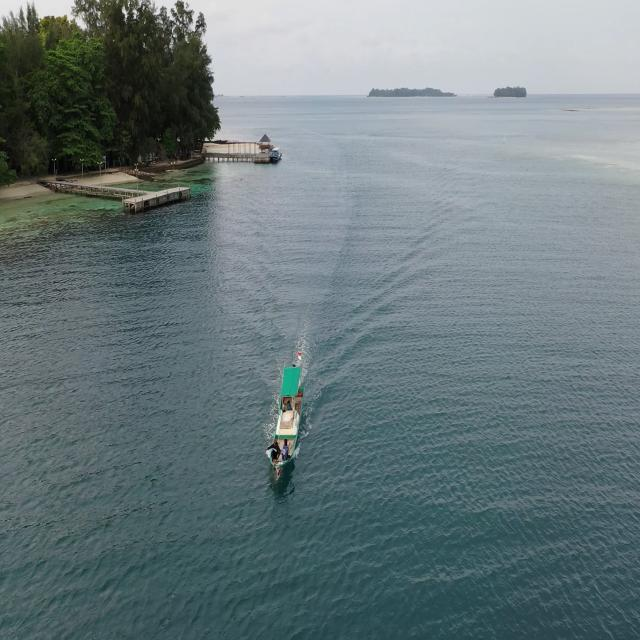ship: (259, 356, 318, 483)
